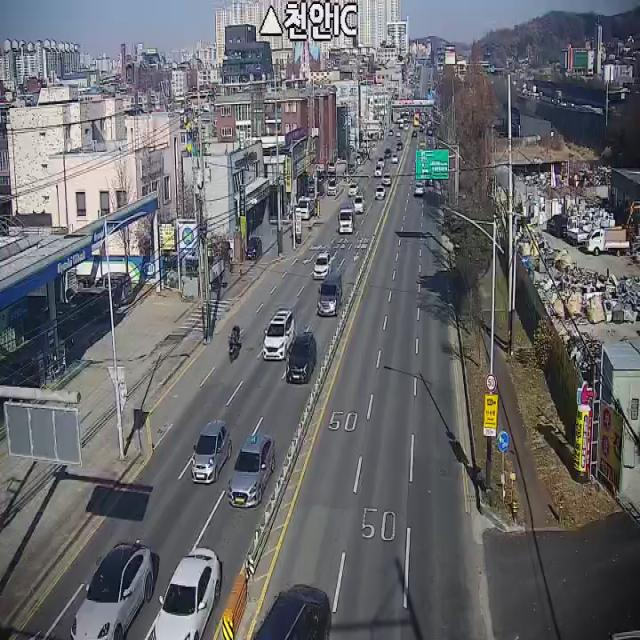Car: (71, 538, 154, 640), (152, 547, 221, 640), (251, 584, 332, 640), (227, 432, 275, 508), (190, 419, 232, 485), (262, 308, 295, 361), (286, 331, 316, 385), (96, 271, 133, 306), (317, 271, 342, 316), (314, 252, 332, 281), (245, 236, 263, 260), (354, 192, 366, 213), (348, 182, 359, 196), (375, 186, 386, 200), (328, 179, 337, 196), (382, 172, 391, 187), (374, 166, 382, 177)
Truck: (587, 226, 630, 257), (338, 202, 355, 234), (299, 196, 315, 220)
